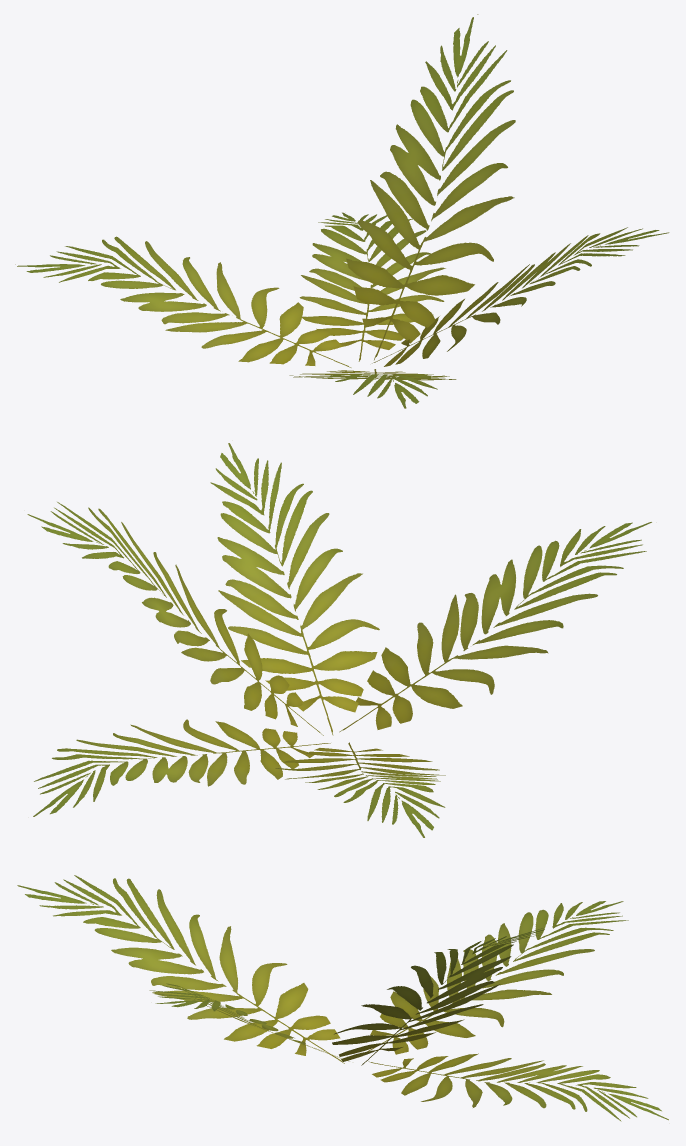
Rendered from fern 02_lod3.obj.
3 views of the same model, one above another, from view 1: azimuth 30°, elevation 25°; view 2: azimuth 150°, elevation 25°; view 3: azimuth 270°, elevation 25° (orthographic). The views are drawn at different scales.
Parts seen in each view (by area): view 1: tree; view 2: tree; view 3: tree.
Boxes of the visible parts, x1,y1,x2,y2 form: tree: [15, 14, 669, 408]; tree: [27, 443, 651, 837]; tree: [17, 875, 668, 1121].
Size of the model in its own units: 135 by 70.28 by 176.
